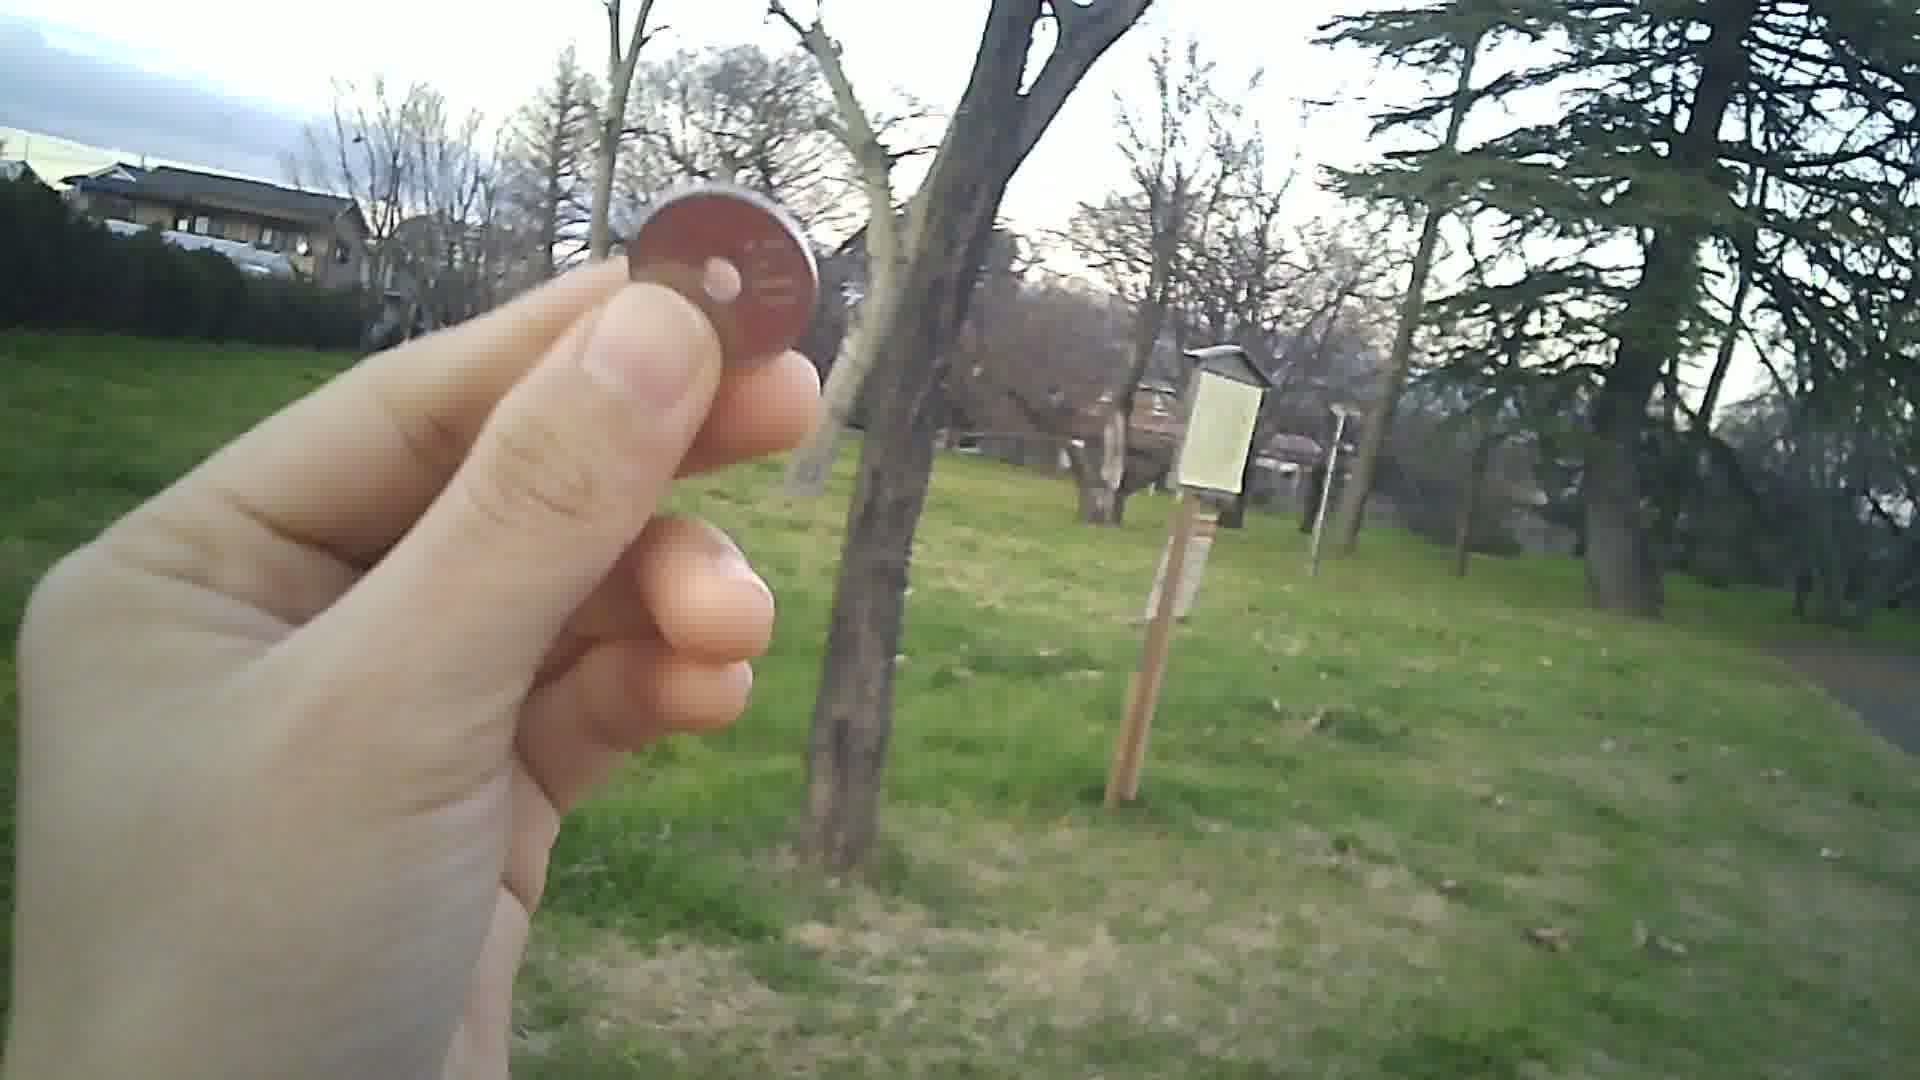50 Yen: (625, 185, 829, 375)
